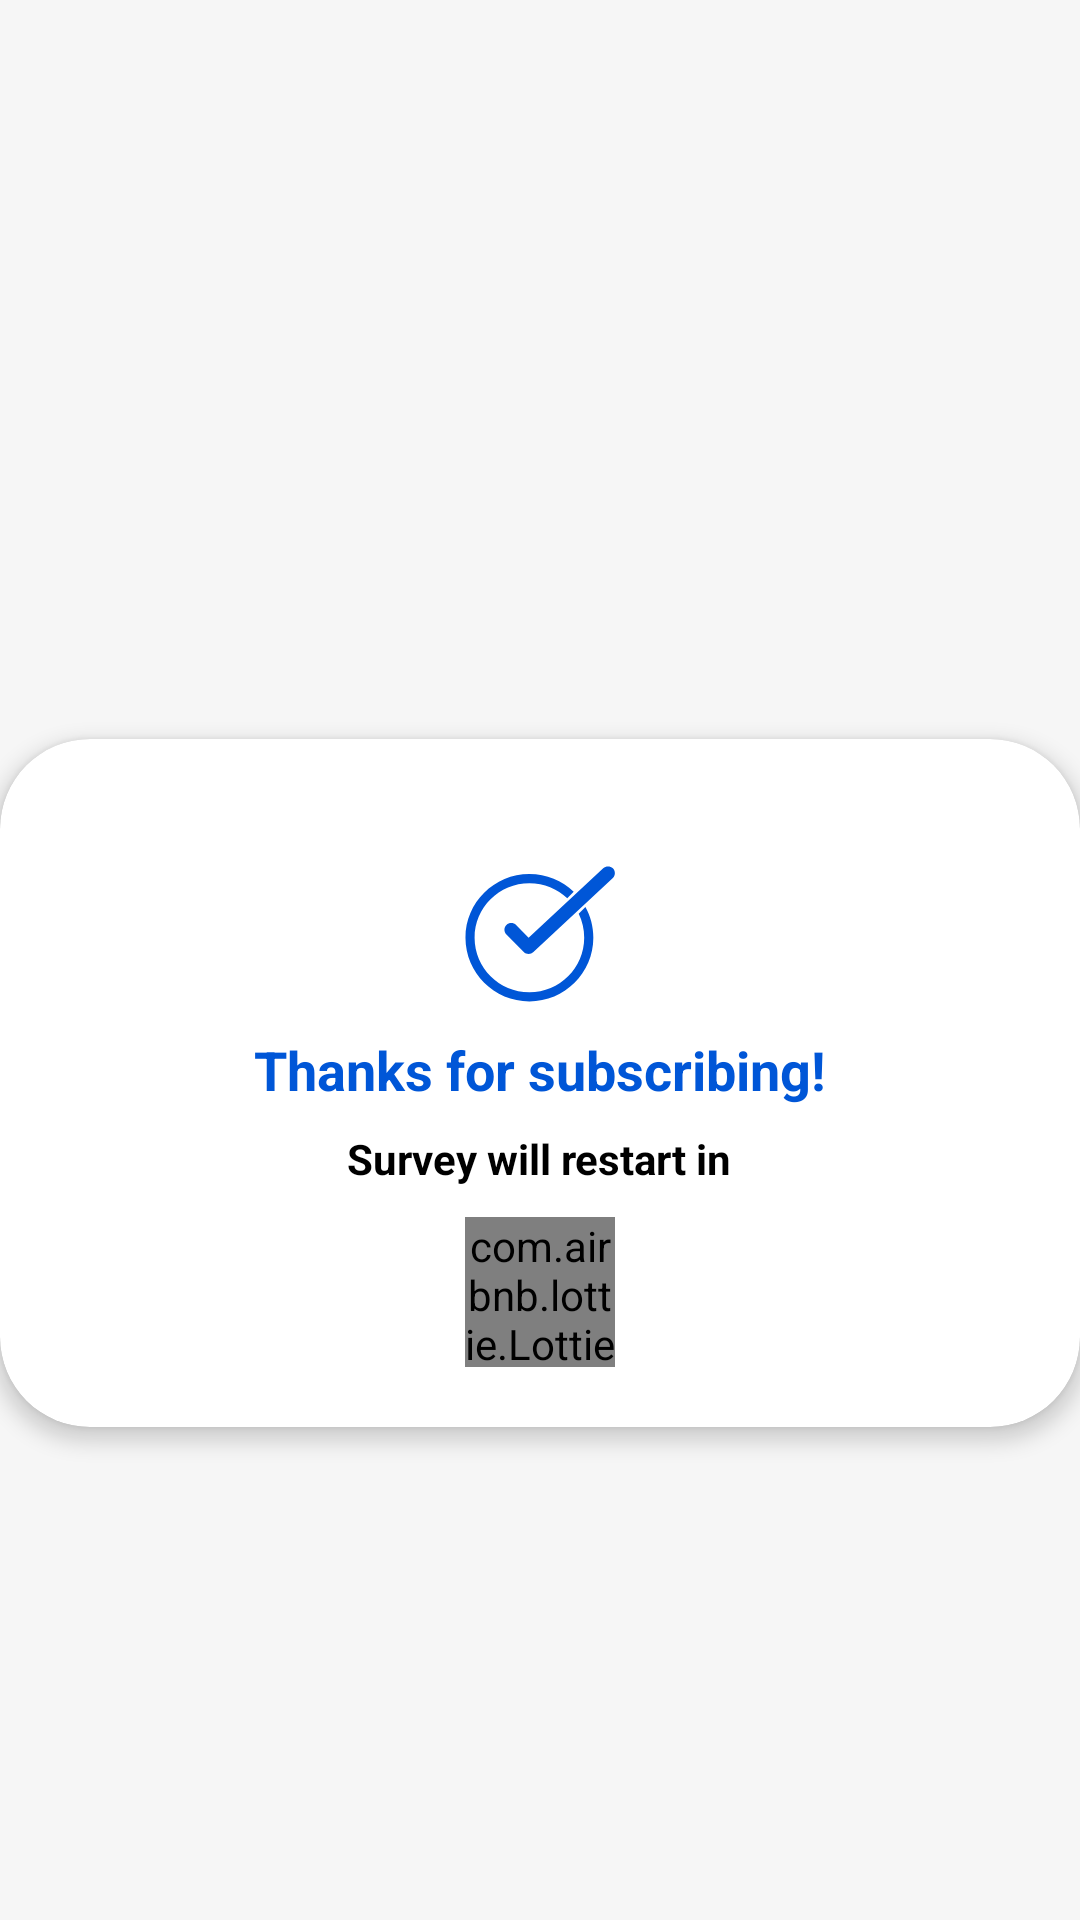

Locate icon controls on the screen. Image size 1080px x 1920px, boxes as (x1, y1, x2, y2).
done: (465, 866, 615, 1002)
